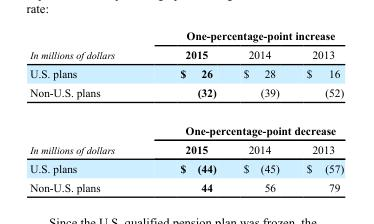table: (29, 28, 343, 193)
table column: (29, 28, 146, 193), (146, 28, 229, 193), (229, 28, 292, 193), (292, 28, 343, 193)
table column header: (29, 28, 343, 63)
table row: (29, 110, 343, 139), (29, 82, 343, 110), (29, 44, 343, 63), (29, 63, 343, 82), (29, 139, 343, 158), (29, 158, 343, 177), (29, 28, 343, 44), (29, 177, 343, 193)
table spanning cell: (29, 82, 146, 139), (146, 110, 343, 139), (29, 28, 146, 63), (146, 28, 343, 44)
